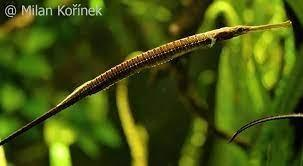Long-Snouted Pipefish: (1, 20, 293, 146), (228, 112, 303, 147)
